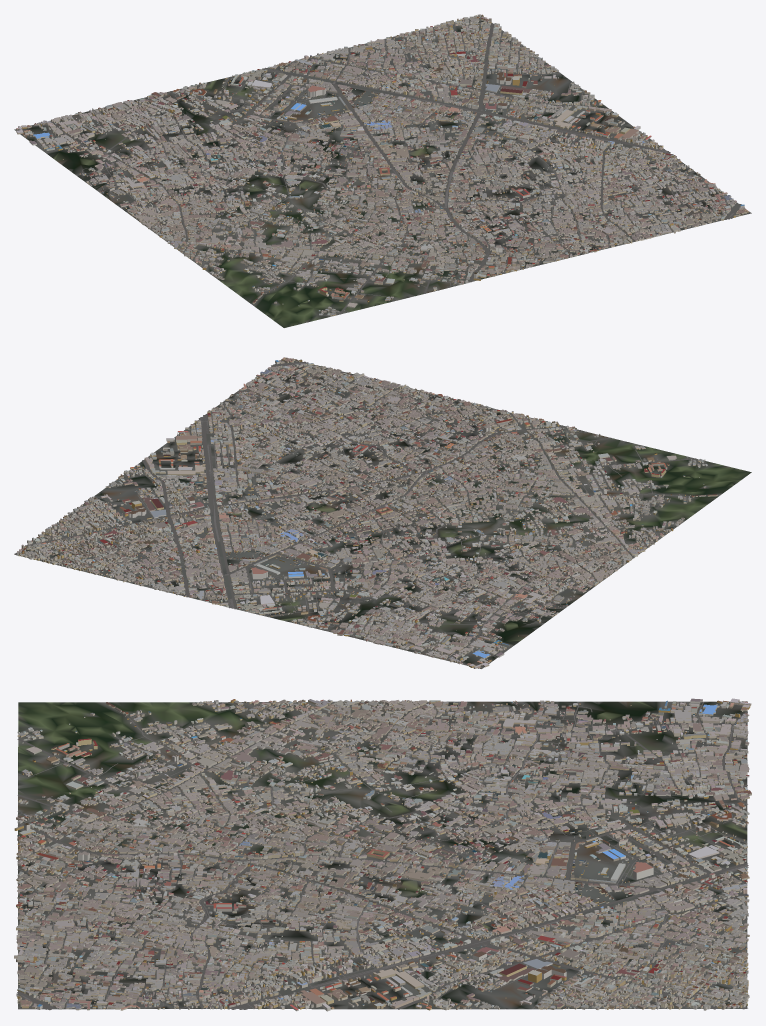
3 views of the same model, one above another, from view 1: azimuth 30°, elevation 25°; view 2: azimuth 150°, elevation 25°; view 3: azimuth 270°, elevation 25° (orthographic). The views are drawn at different scales.
Visible parts, largest first — view 1: buildings, ground, roads; view 2: buildings, ground, roads; view 3: buildings, ground, roads.
Part boxes in pixels (x1,y1,x2,y2): buildings: (16, 14, 748, 316); ground: (14, 16, 751, 327); roads: (21, 15, 751, 315); buildings: (17, 357, 717, 668); ground: (16, 358, 751, 668); roads: (14, 357, 719, 665); buildings: (14, 698, 751, 1011); ground: (18, 701, 747, 1009); roads: (16, 701, 748, 1010).
Bounding box in the file's own units: 2831 × 39.96 × 2834.
